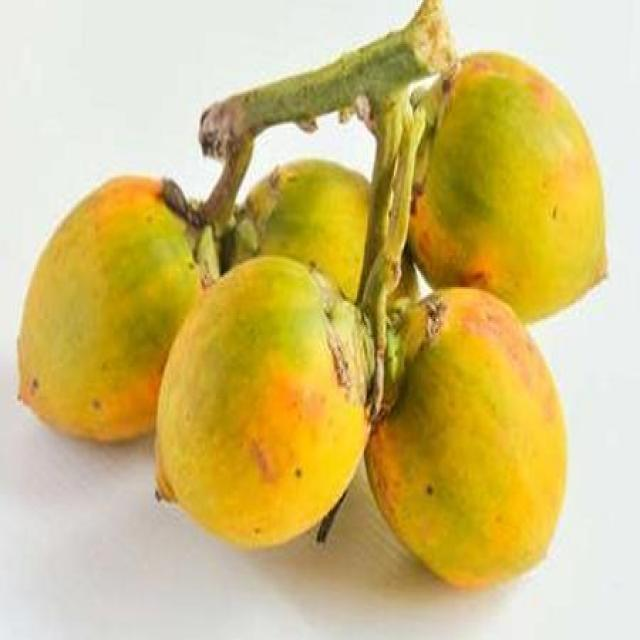good: (155, 255, 414, 552), (360, 285, 569, 592), (408, 54, 610, 327), (16, 175, 203, 447), (249, 160, 371, 299)
